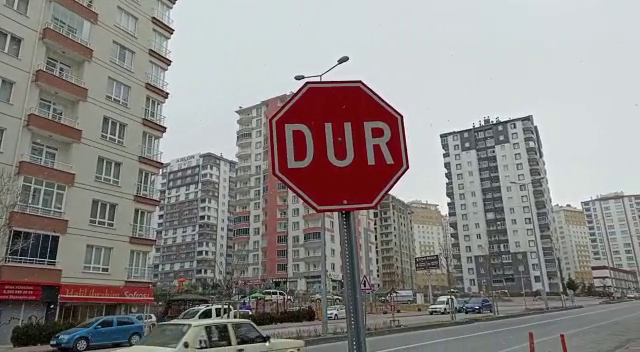stop: (264, 75, 415, 219)
